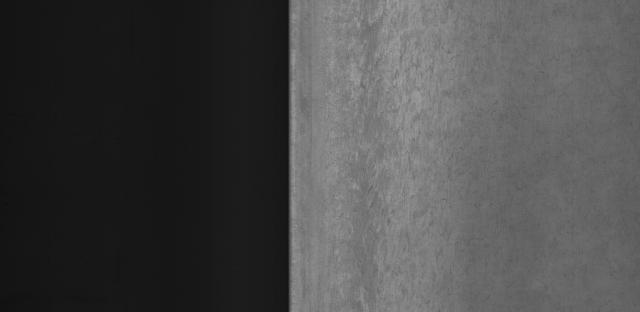silk_spot: (338, 24, 443, 292)
